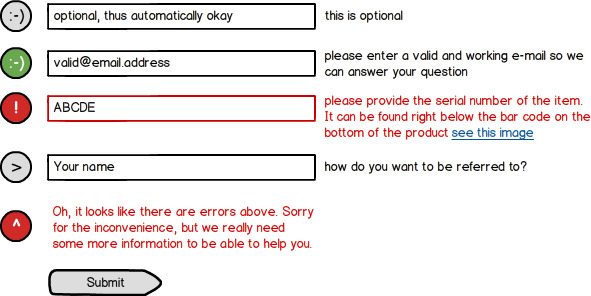error_field: (46, 94, 317, 123)
error_message: (51, 204, 315, 250), (322, 95, 591, 140)
